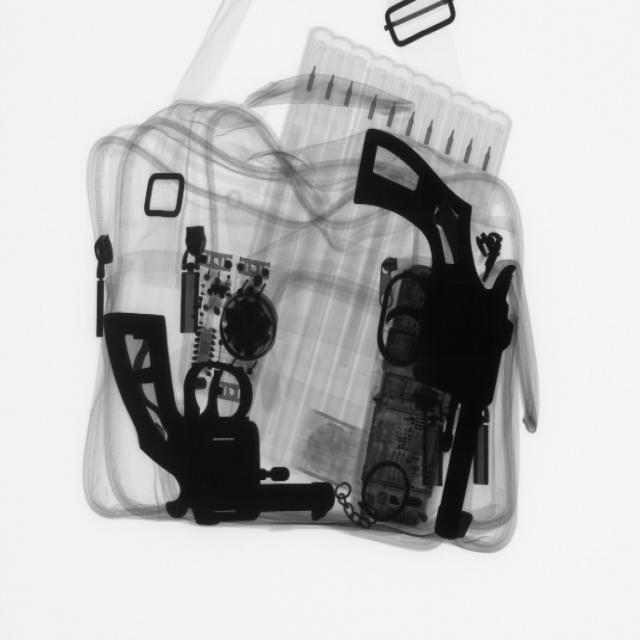GUN: (364, 110, 527, 558), (104, 297, 328, 528)
